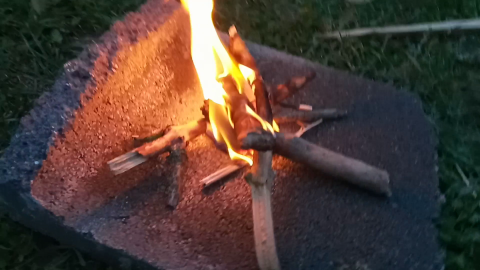fire: (186, 1, 278, 156)
